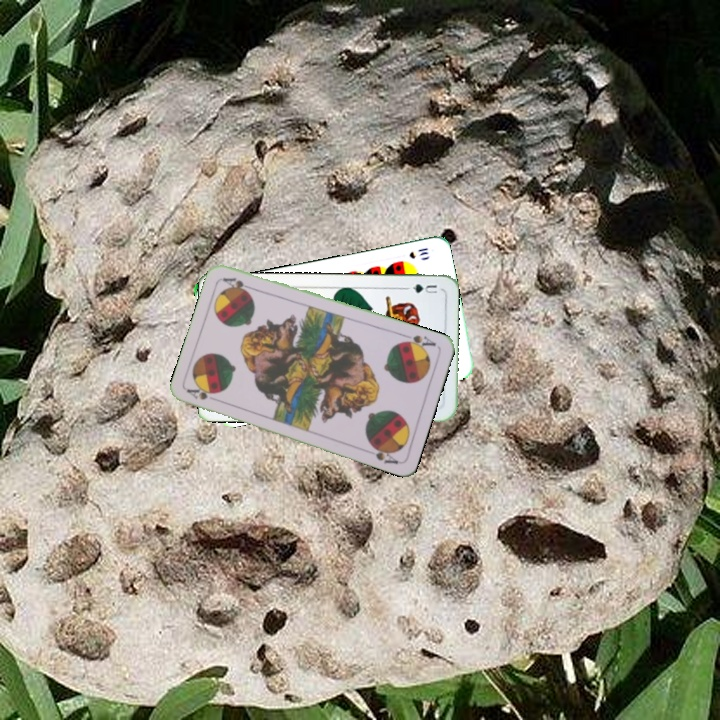GU: (408, 280, 440, 296)
S10: (405, 244, 431, 261)
SA: (398, 330, 439, 353), (183, 385, 223, 405)
